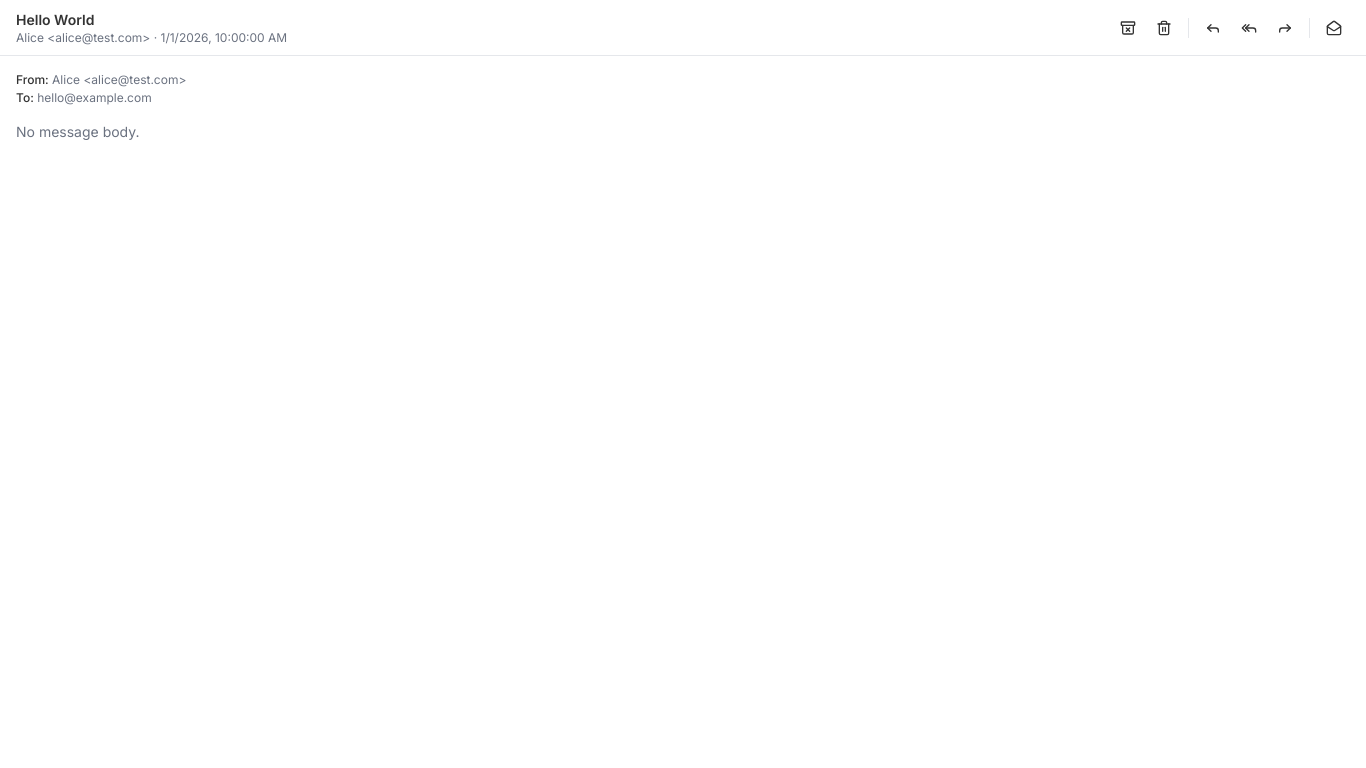
it: MessageDetail › opens ReplyComposer on Reply click
Click the button named "reply". click: (1213, 28)
box: 1197,12 -> 1229,44
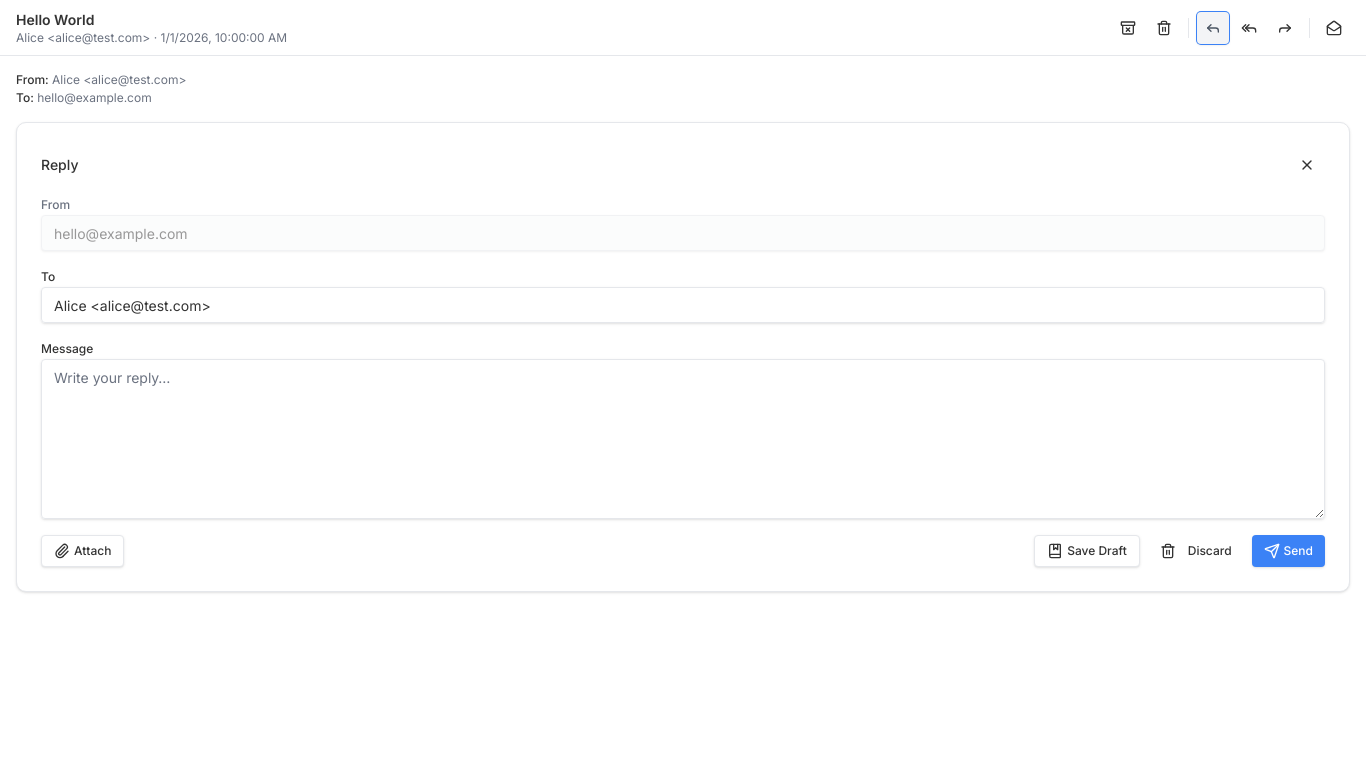
Result: the element with test id "reply-composer" is shown at 16,122 -> 1350,592
